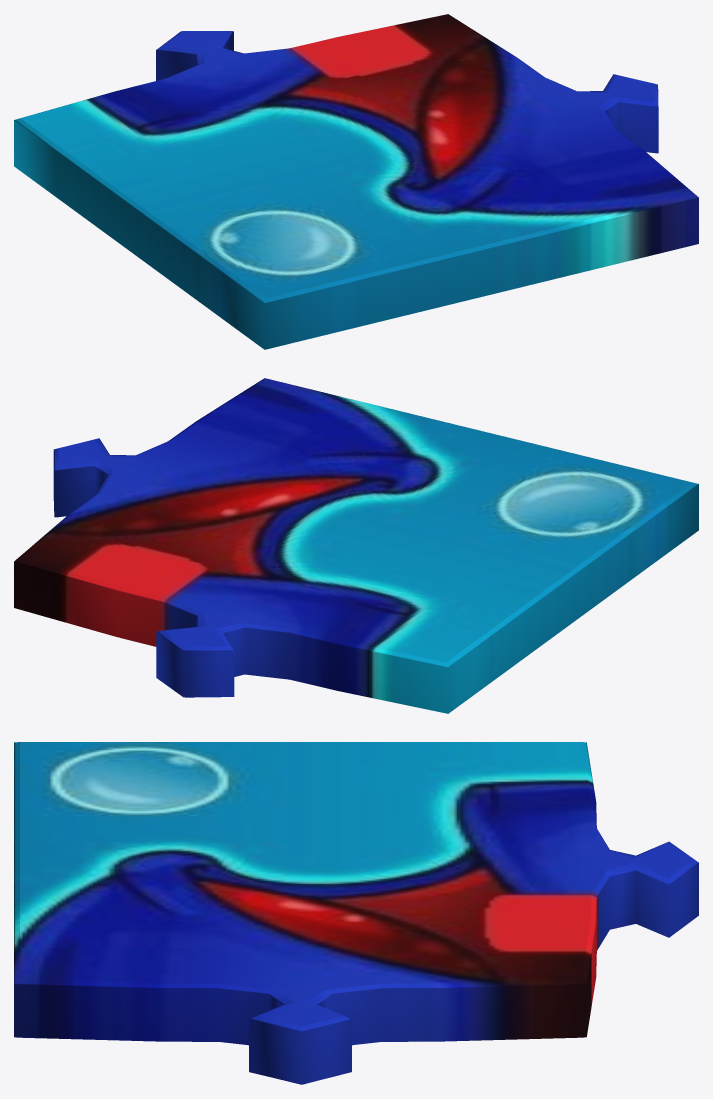
The picture shows the model from 3 angles, top to bottom: view 1: azimuth 30°, elevation 25°; view 2: azimuth 150°, elevation 25°; view 3: azimuth 270°, elevation 25°; orthographic projection. The views are drawn at different scales.
Parts seen in each view (by area): view 1: jigsawPuzzle4x3_Grp_piece_1x3_Grp_Geo; view 2: jigsawPuzzle4x3_Grp_piece_1x3_Grp_Geo; view 3: jigsawPuzzle4x3_Grp_piece_1x3_Grp_Geo.
Boxes of the visible parts, x1,y1,x2,y2 form: jigsawPuzzle4x3_Grp_piece_1x3_Grp_Geo: (14,14,698,349); jigsawPuzzle4x3_Grp_piece_1x3_Grp_Geo: (14,378,698,713); jigsawPuzzle4x3_Grp_piece_1x3_Grp_Geo: (14,742,698,1084).
Size of the model in its own units: 1.17 by 0.11 by 1.17.
Materials: 1 (1 with a texture image).
